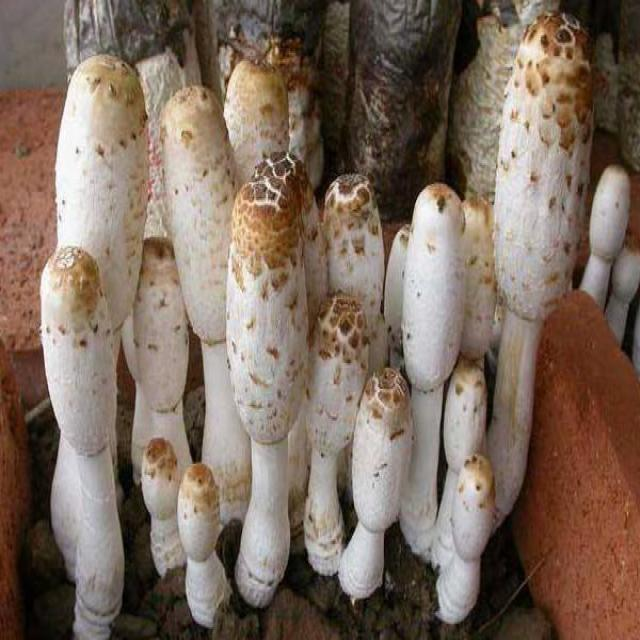Coprinus comatus: (490, 9, 593, 526), (159, 88, 255, 521), (39, 245, 127, 636), (230, 181, 307, 604), (55, 53, 146, 336), (400, 183, 468, 544), (131, 237, 197, 479), (342, 369, 411, 598), (320, 166, 386, 338), (438, 360, 490, 567), (439, 454, 496, 621), (225, 54, 291, 176), (181, 463, 228, 618), (586, 162, 630, 318), (144, 434, 186, 571)
